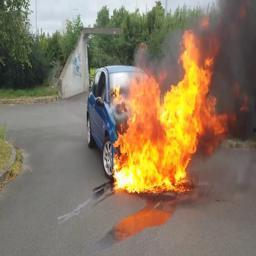fire: (112, 16, 229, 192)
